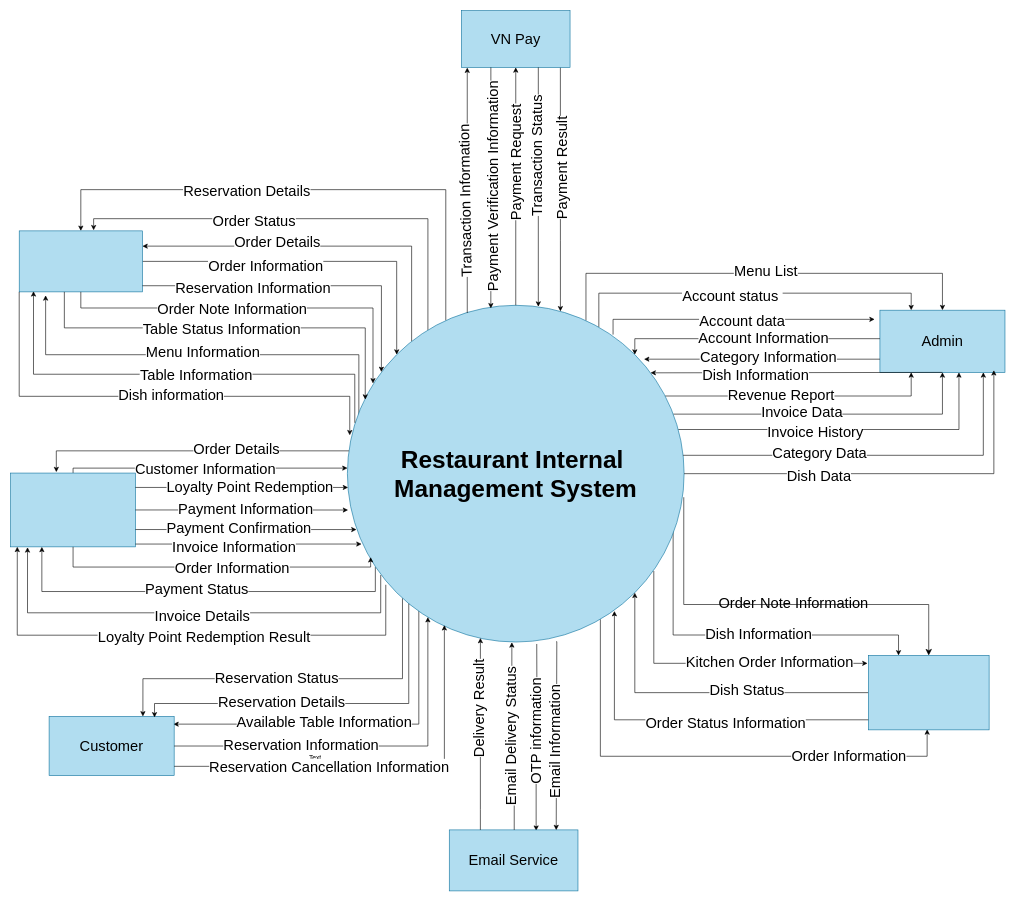
This 1016x902 diagram has some shape labels left out. Here are the shapes that lost their labels. From the top down, the box of each, then its label:
(19, 230, 142, 292): Waiter
(10, 472, 135, 547): Cashier
(868, 655, 989, 730): Chef
